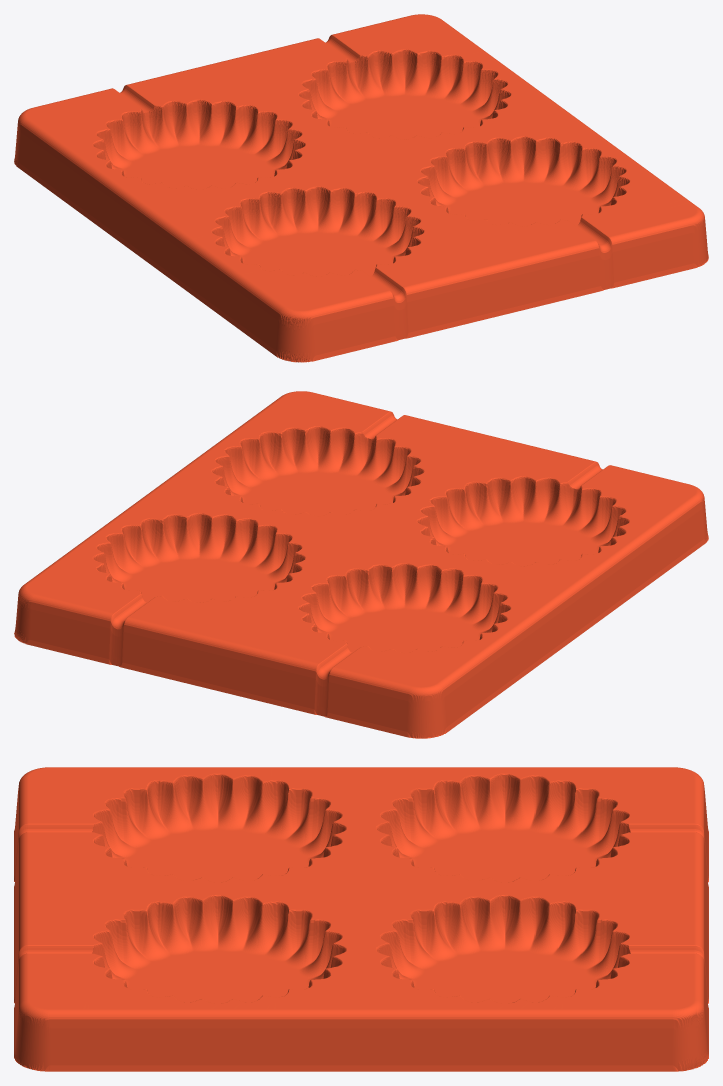
File: mold.glb
3 views of the same model, one above another, from view 1: azimuth 30°, elevation 25°; view 2: azimuth 150°, elevation 25°; view 3: azimuth 270°, elevation 25° (orthographic). The views are drawn at different scales.
Visible parts, largest first — view 1: geometry_0; view 2: geometry_0; view 3: geometry_0.
Part boxes in pixels (x1,y1,x2,y2): geometry_0: (14, 14, 708, 362); geometry_0: (14, 391, 708, 738); geometry_0: (14, 767, 708, 1071).
Bounding box in the file's own units: 0.1497 × 0.0155 × 0.1735.
